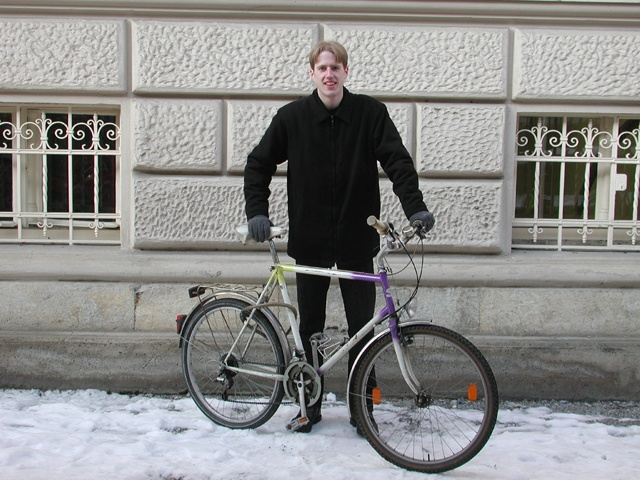person: (242, 44, 432, 435)
